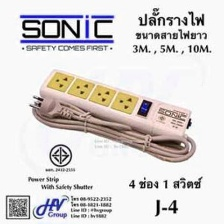three_eye_plug: (36, 66, 193, 147)
